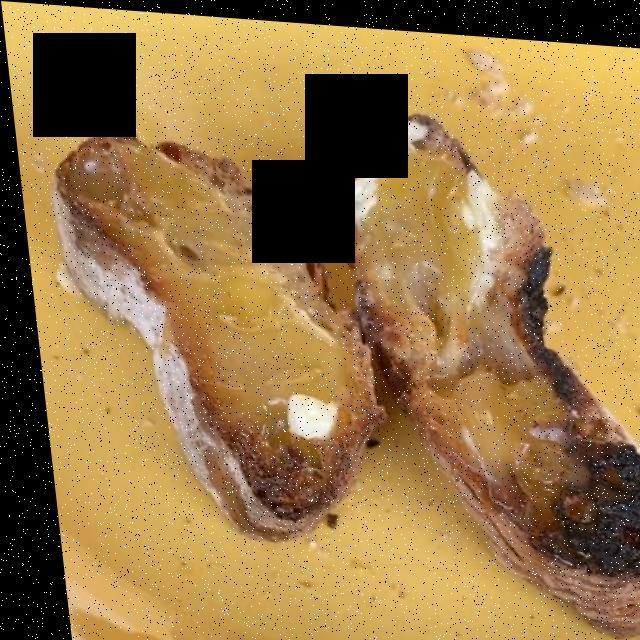bread: (49, 122, 640, 611)
honey: (87, 134, 594, 512)
